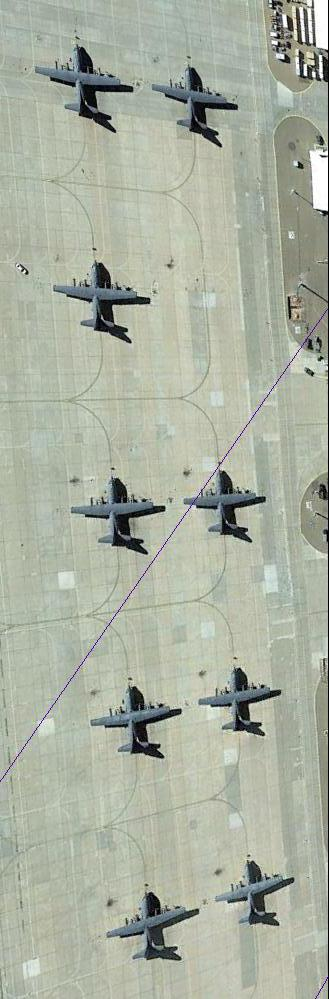C-130: (59, 478, 173, 552), (100, 887, 197, 969), (54, 256, 146, 342), (31, 47, 124, 125), (149, 62, 241, 135), (90, 684, 177, 757), (178, 471, 264, 541), (194, 663, 272, 740), (209, 859, 291, 930)
